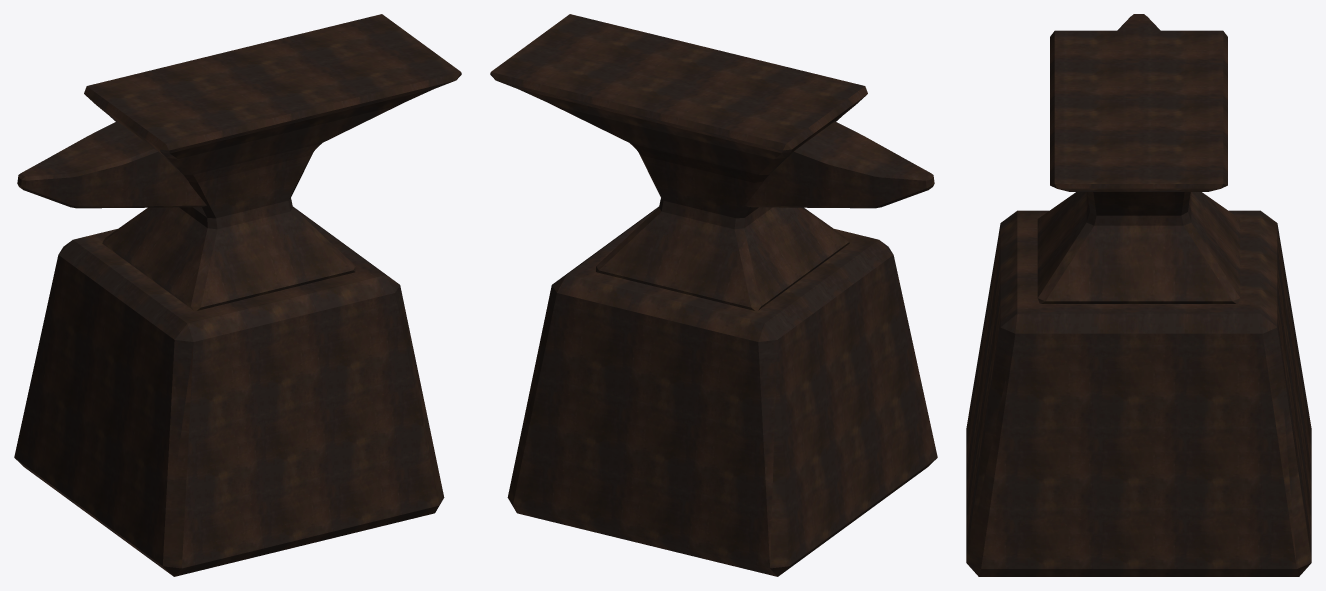
The model's file is nakovalnya.glb.
3 views of the same model, side by side, from view 1: azimuth 30°, elevation 25°; view 2: azimuth 150°, elevation 25°; view 3: azimuth 270°, elevation 25° (orthographic). The views are drawn at different scales.
Visible parts, largest first — view 1: Anvil_Cube.002; view 2: Anvil_Cube.002; view 3: Anvil_Cube.002.
Boxes of the visible parts, x1,y1,x2,y2 form: Anvil_Cube.002: (14,14,461,576); Anvil_Cube.002: (490,14,937,576); Anvil_Cube.002: (966,14,1311,576).
Bounding box in the file's own units: 0.9301 × 0.88 × 0.648.
1 material, 1 textured.
